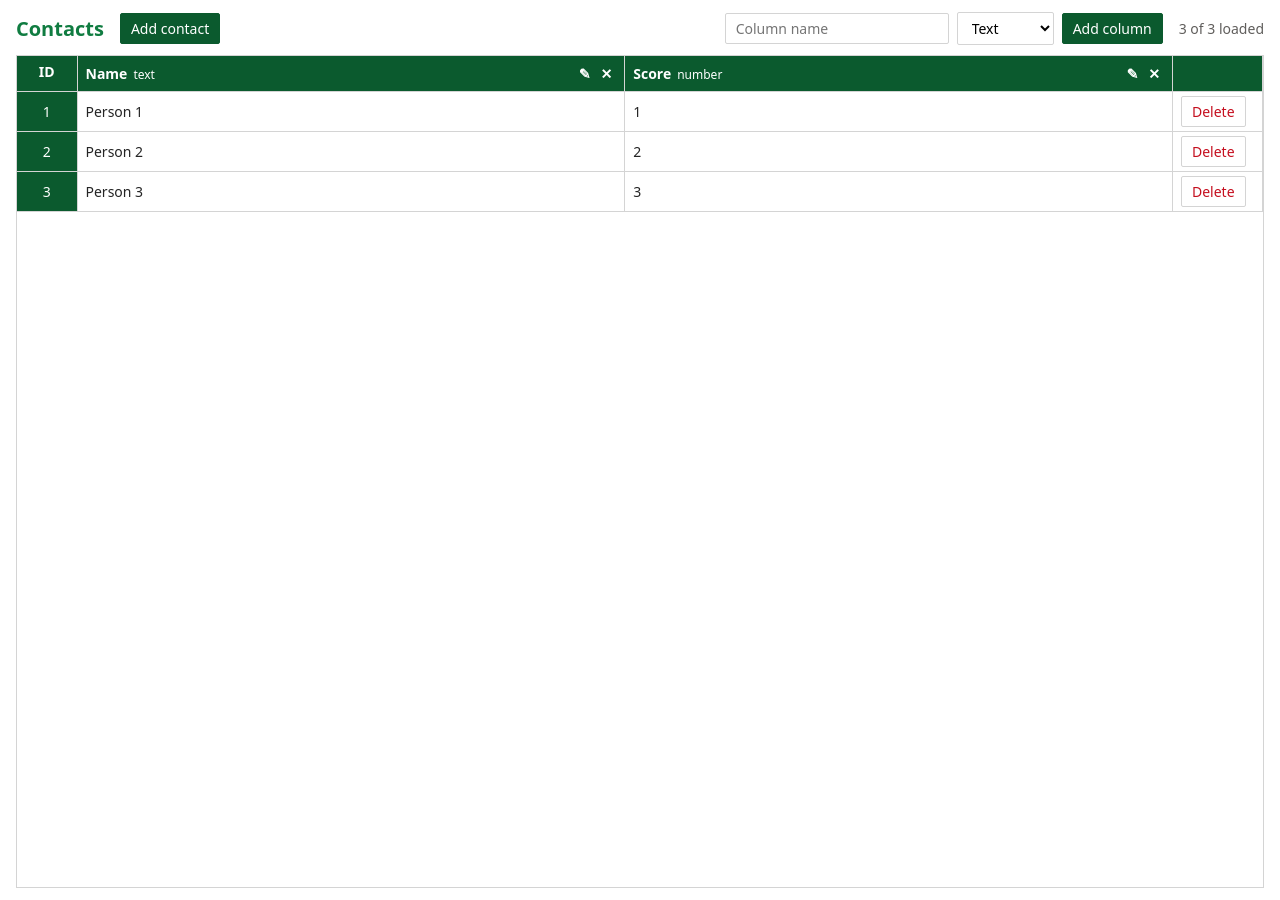
it: App: contacts › editing a cell sends PATCH and shows the value returned by the server
Click the text "Person 1" at [114, 112], box left=86, top=102, right=143, bottom=121
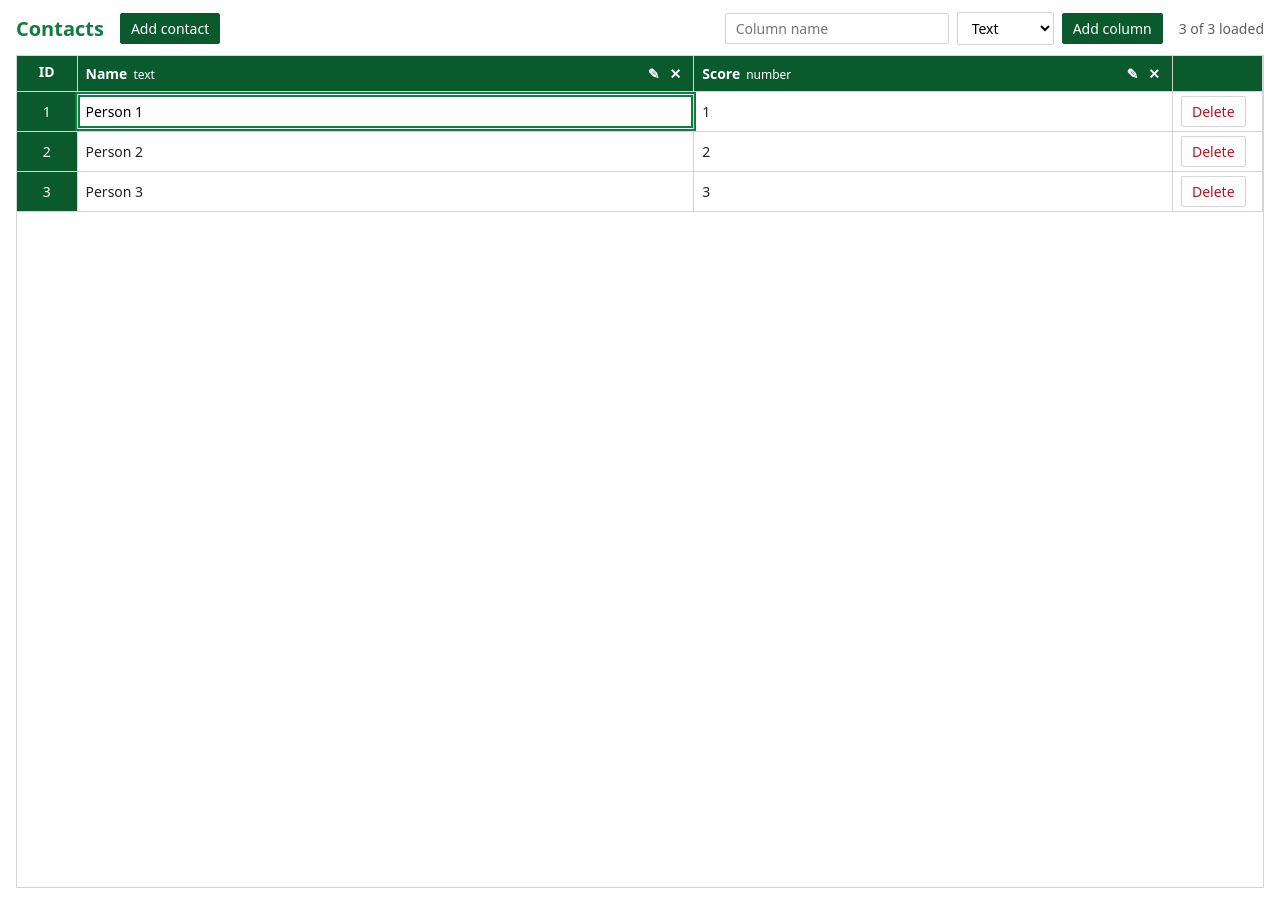
Replace the text in the field showing "Person 1" with "Renamed" at [385, 112], box left=78, top=95, right=693, bottom=128
Then press Enter
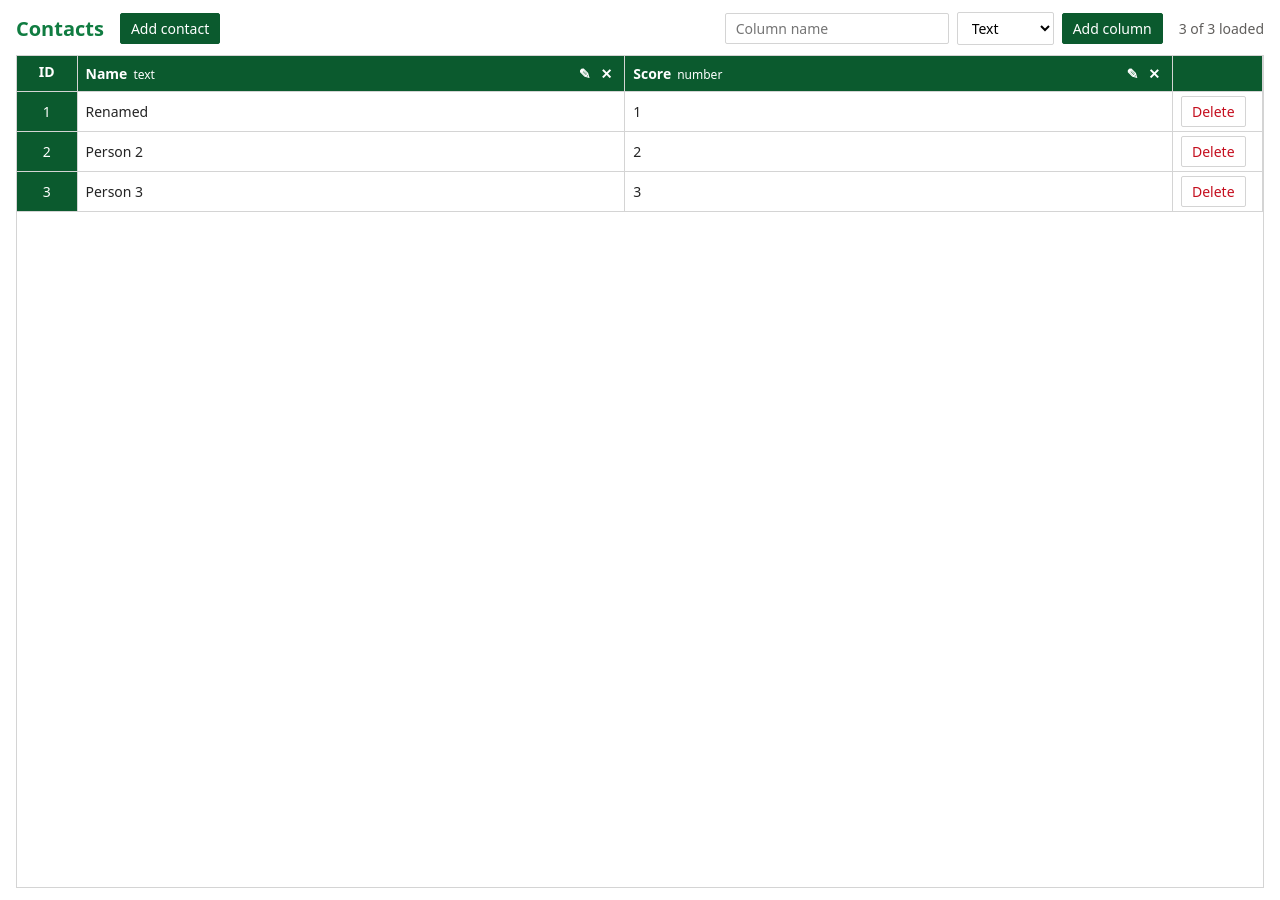
Check: the text "Renamed" is shown, box left=86, top=102, right=148, bottom=121
